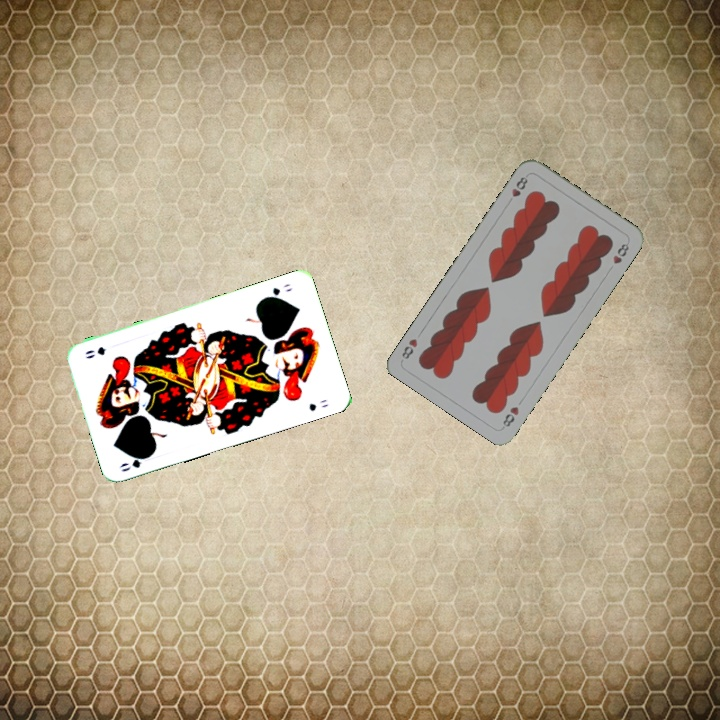GO: (116, 450, 155, 474), (260, 279, 295, 302)
H8: (503, 171, 531, 207), (498, 402, 521, 431)
